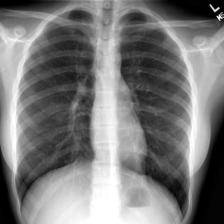normal: (10, 7, 196, 221)
